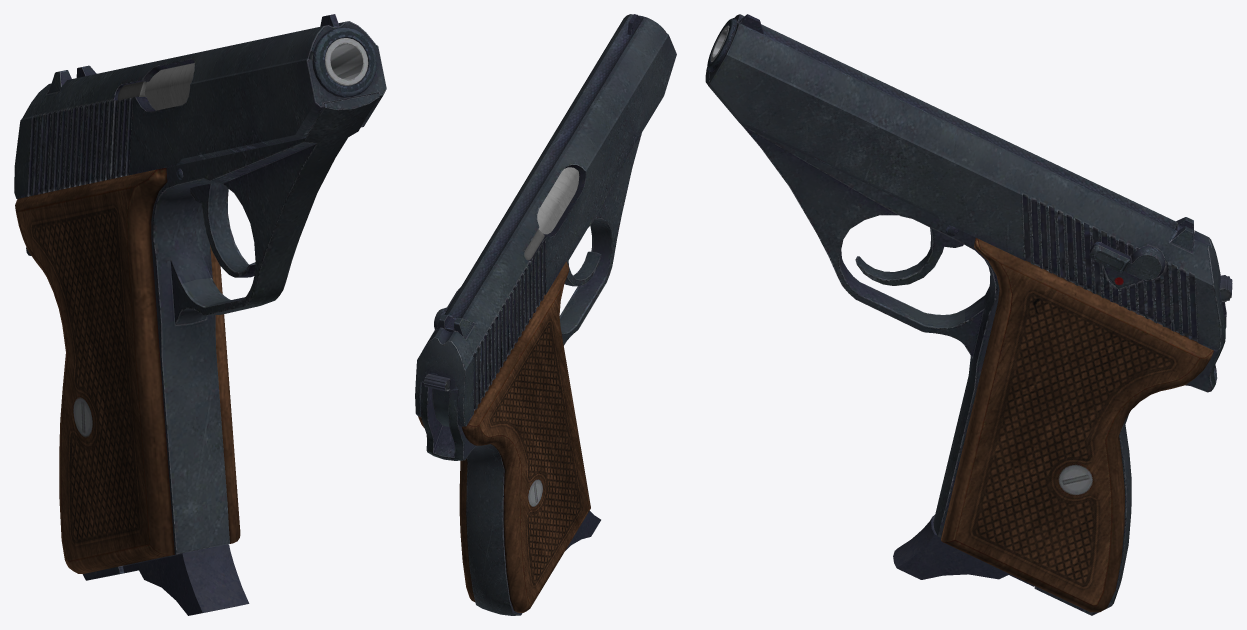
File: mdlBroomHCPickup Variant.fbx
3 renders of one model, left to right at view 1: azimuth 30°, elevation 25°; view 2: azimuth 150°, elevation 25°; view 3: azimuth 270°, elevation 25°, orthographic. The views are drawn at different scales.
Parts seen in each view (by area): view 1: Model; view 2: Model; view 3: Model.
Boxes of the visible parts, <box> form: Model: <box>14,14,386,615</box>; Model: <box>415,14,676,615</box>; Model: <box>705,14,1232,615</box>.
Size of the model in its own units: 362 by 2323 by 1859.
